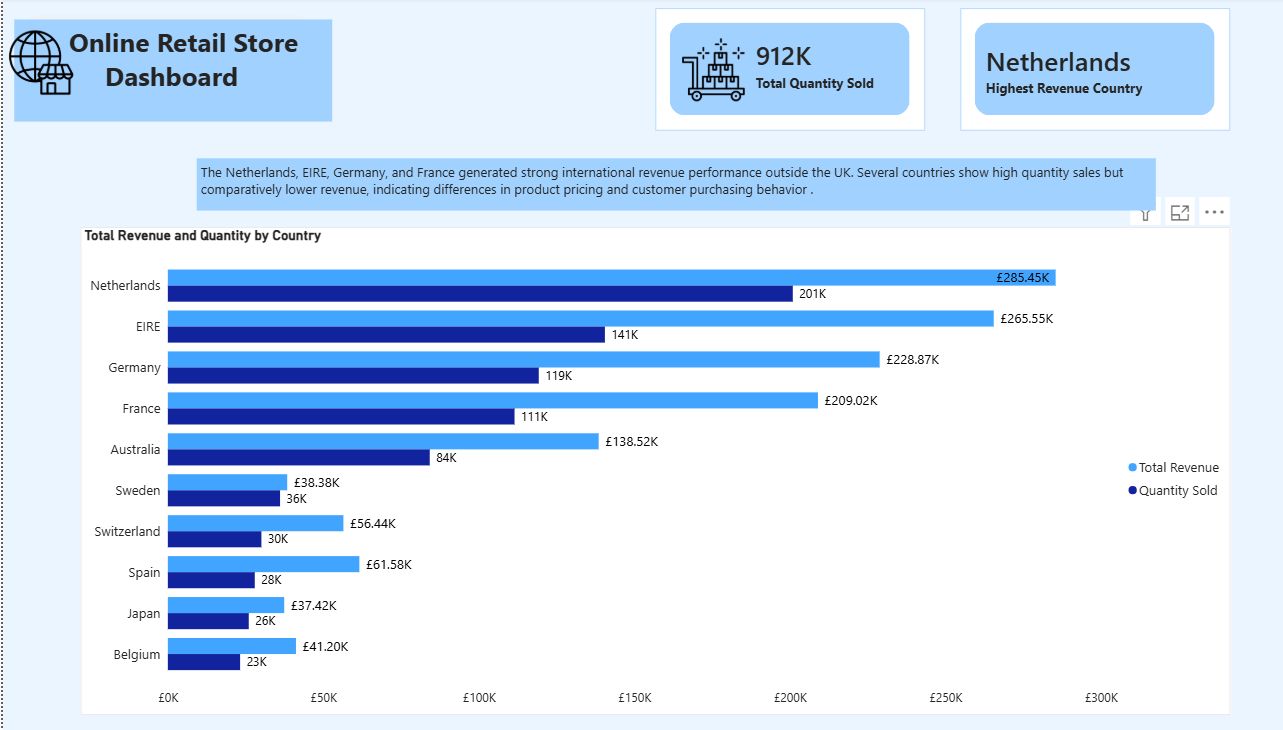

The dashboard page shown, as its layout file describes it:
{"tool":"powerbi","page":{"name":"Country Revenue & Quantity Comparison","canvas":[1570,900],"ordinal":1},"visuals":[{"type":"shape","box":[13.5,21.9,375.3,117.8],"z":0},{"type":"textbox","box":[13.5,26.9,388.8,124.6],"z":1000},{"type":"image","box":[0,40.4,94.3,80.8],"z":2000},{"type":"clusteredBarChart","title":"Total Revenue and Quantity by Country","fields":{"Category":["cleaned Online Retail.Country"],"Y":["All measures.Total Revenue","Sum(cleaned Online Retail.Quantity)"]},"box":[94.3,281.1,1407.1,595.8],"z":3000},{"type":"textbox","box":[237.3,196.9,1173.1,64],"z":4000},{"type":"cardVisual","fields":{"Data":["All measures.Highest Revenue Country"]},"box":[1171.4,13.5,329.9,149.8],"z":5000},{"type":"cardVisual","fields":{"Data":["All measures.Highest Quantity Country"]},"box":[797.8,13.5,329.9,149.8],"z":6000}]}

Visuals, with their boxes in screenshot pixels (x1, y1, x2, y2), scaled from the page's 1570x900 canvas onto the 1283x730 screenshot:
shape: 11,18,318,113
textbox: 11,22,329,123
image: 0,33,77,98
"Total Revenue and Quantity by Country" clusteredBarChart: 77,228,1227,711
textbox: 194,160,1153,212
cardVisual - All measures.Highest Revenue Country: 957,11,1227,132
cardVisual - All measures.Highest Quantity Country: 652,11,922,132
